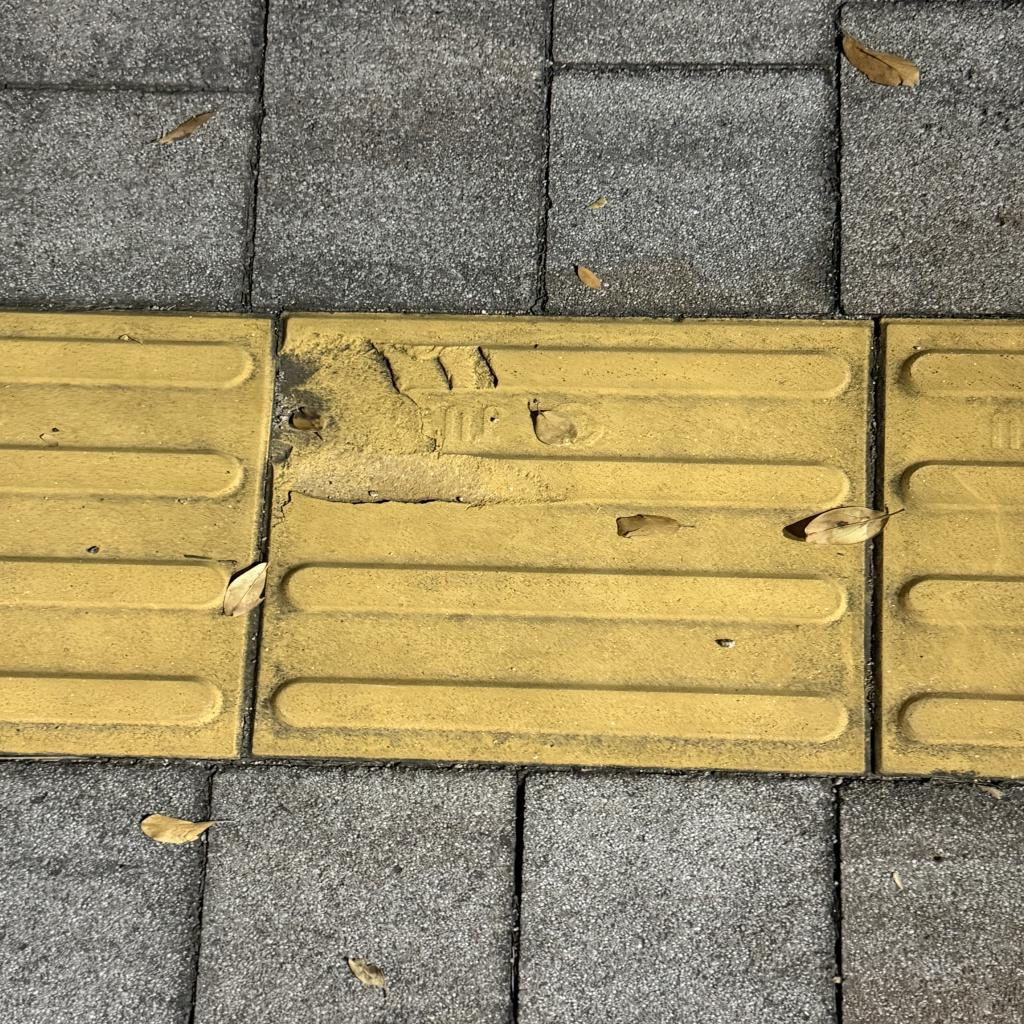Straight block broken: (255, 310, 868, 769)
